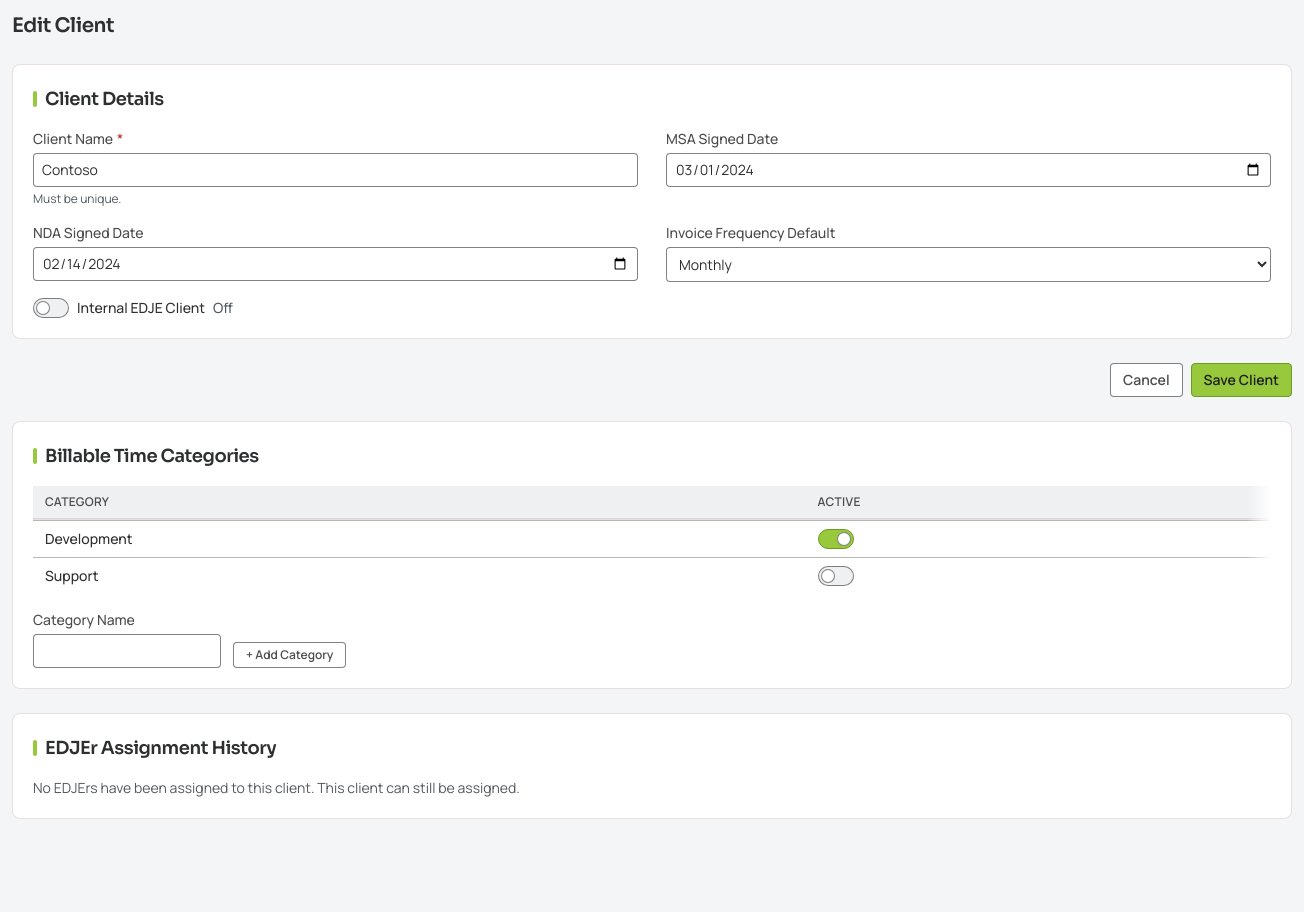
it: ClientFormPage — editing › surfaces a duplicate category name inline
Type "Development" into the field labelled "Category Name" at (127, 651), box [33,634,221,668]
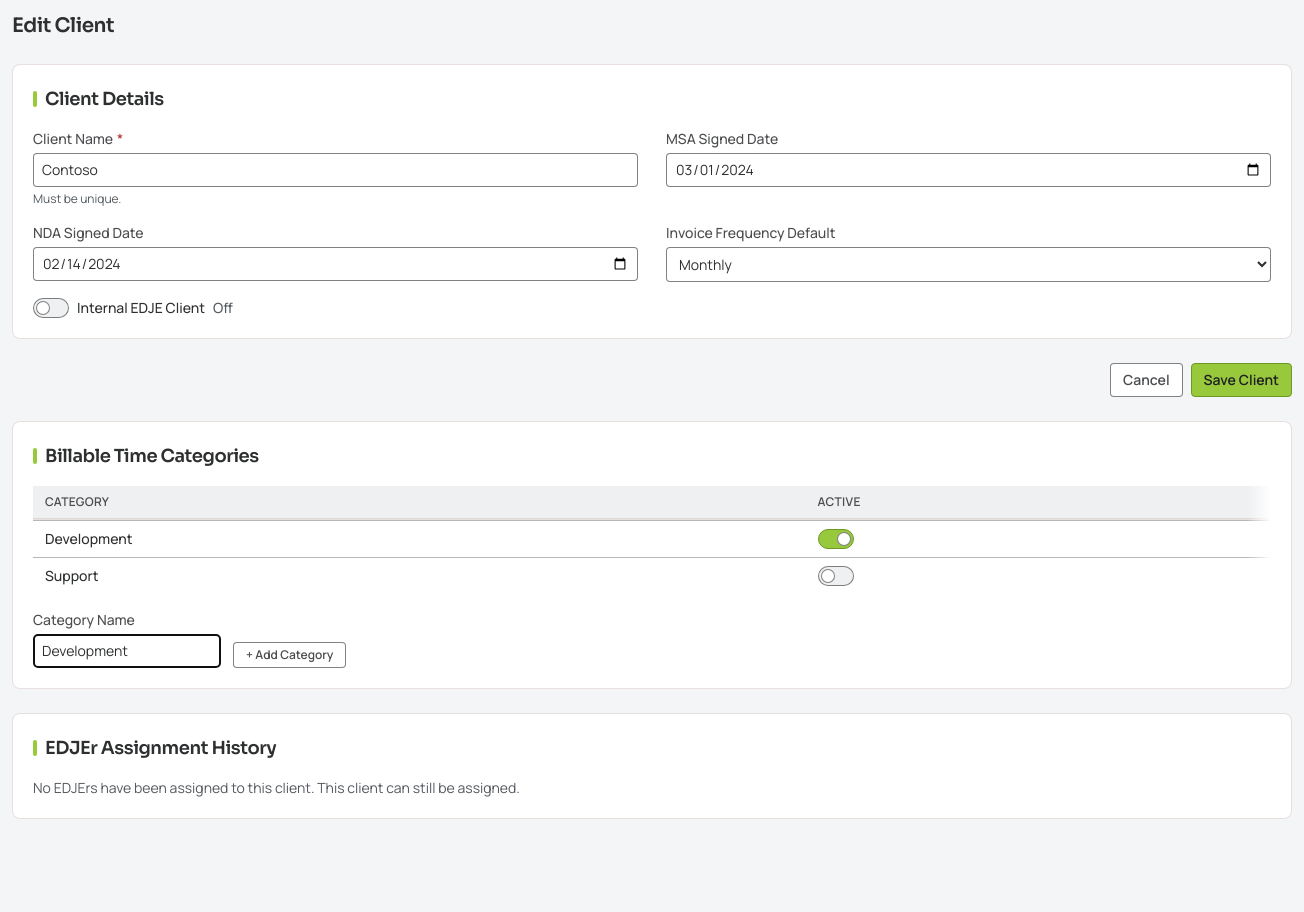
Click the button "+ Add Category" at (290, 655), box [233,642,346,668]
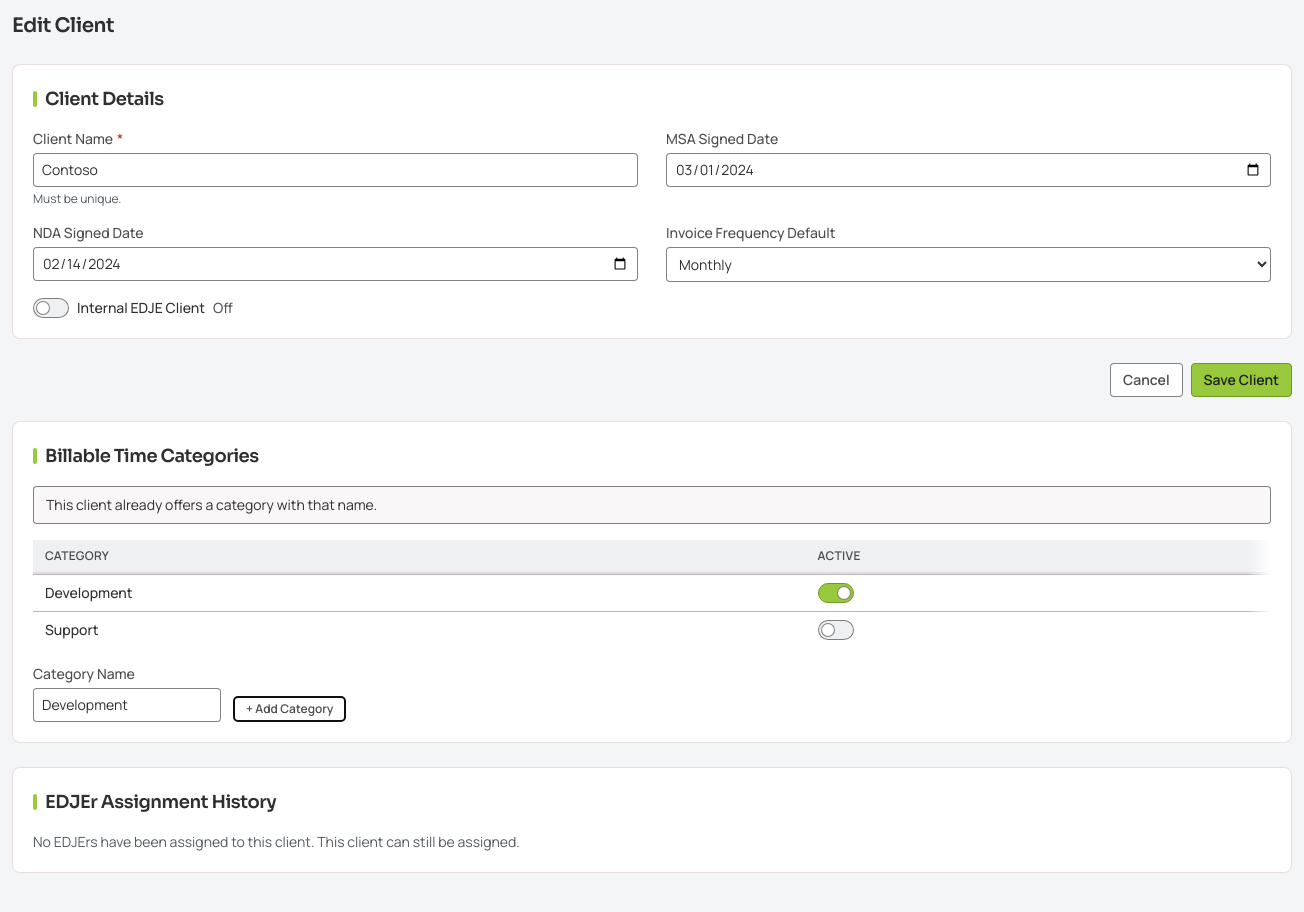
Check: the message shows "already offers", box [46,495,377,514]
